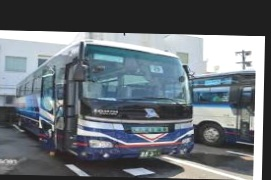bus: (13, 35, 196, 163)
